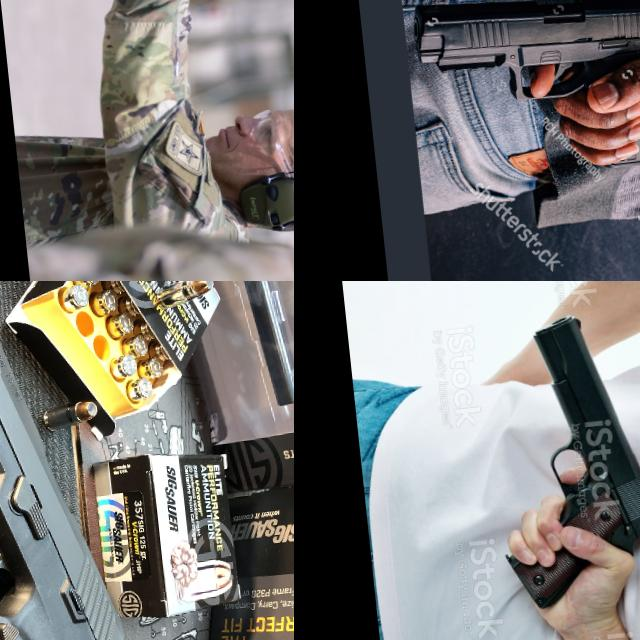handgun: (0, 281, 178, 640), (479, 303, 640, 616), (407, 0, 640, 116), (182, 0, 258, 70)
